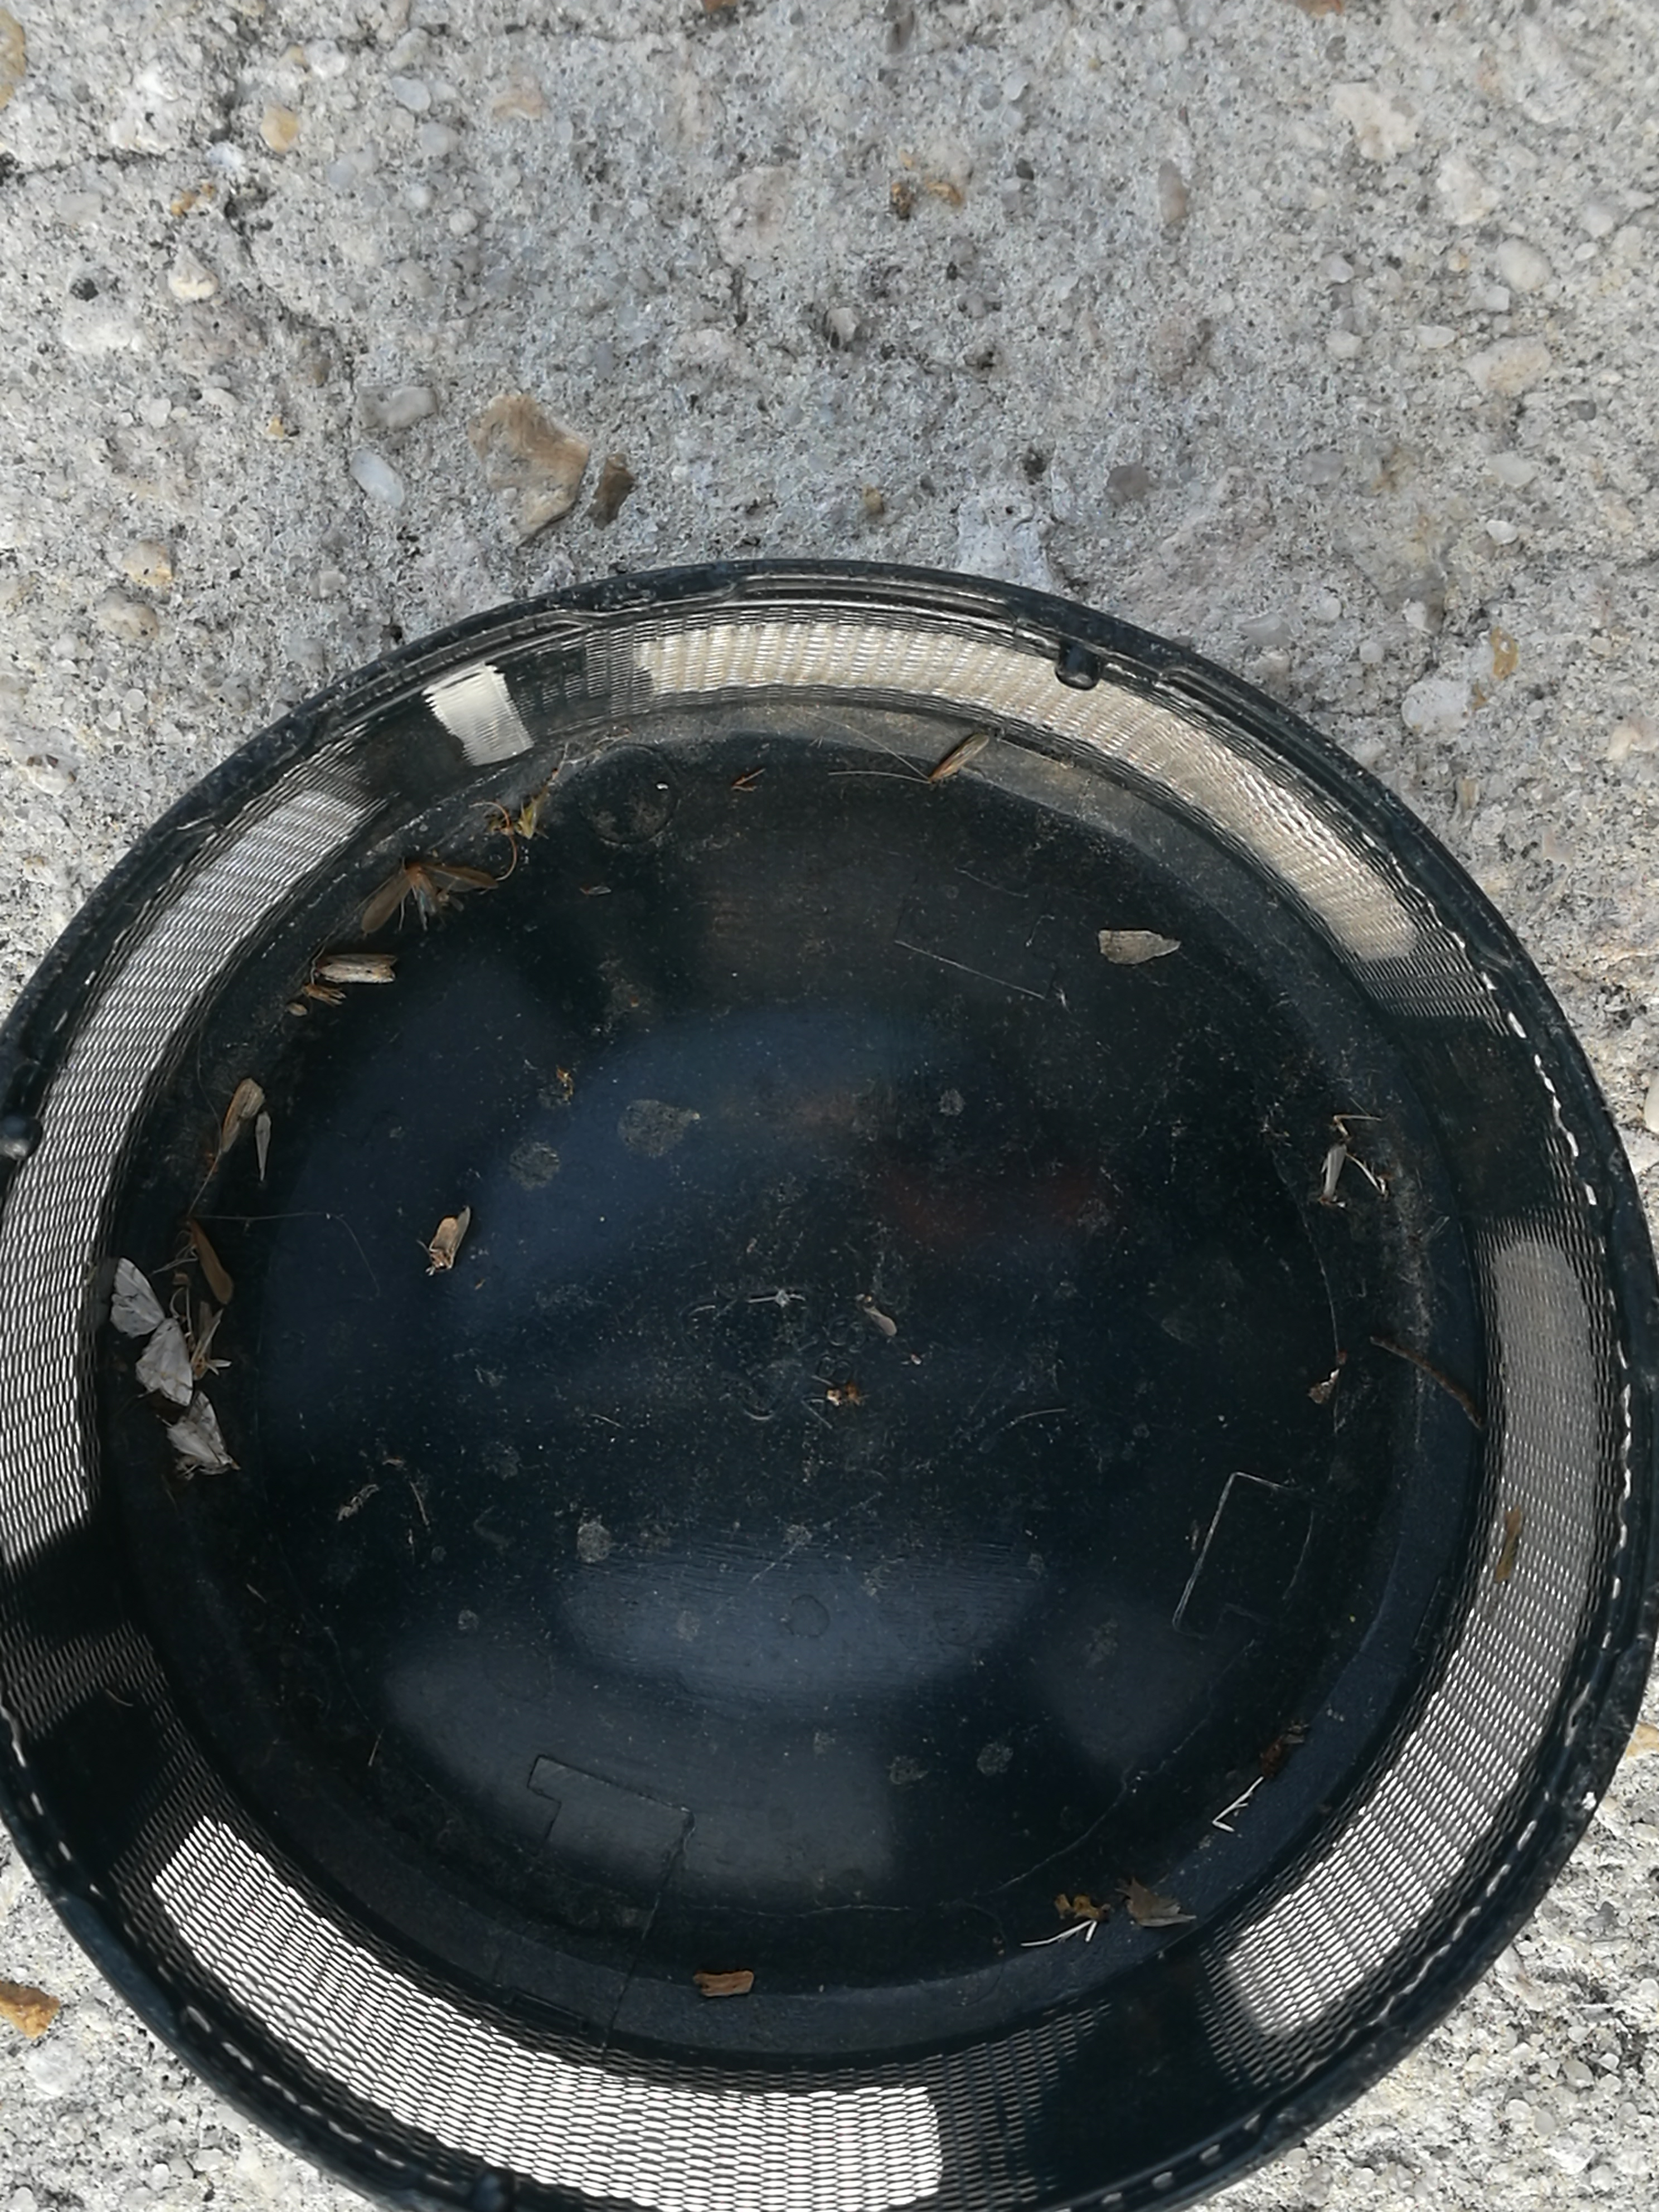mosquito: (183, 1219, 232, 1299), (931, 735, 993, 784), (317, 951, 399, 981), (193, 1312, 216, 1376)
moth: (113, 1259, 190, 1406), (362, 857, 497, 932), (162, 1395, 237, 1475)
